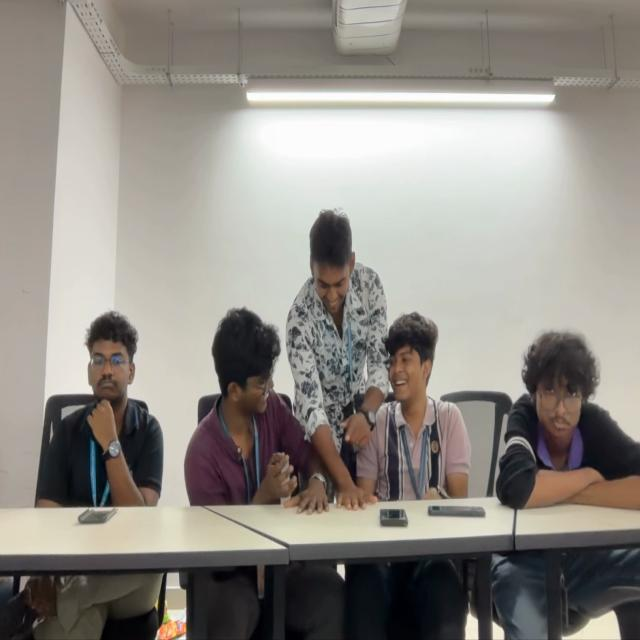Isolated: (30, 298, 163, 506), (500, 325, 640, 508)
socializing: (188, 211, 468, 505)
